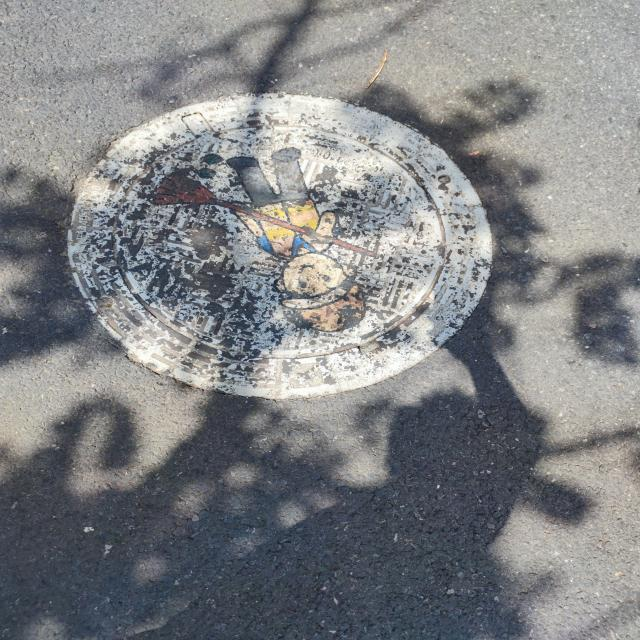Good: (63, 90, 500, 404)
